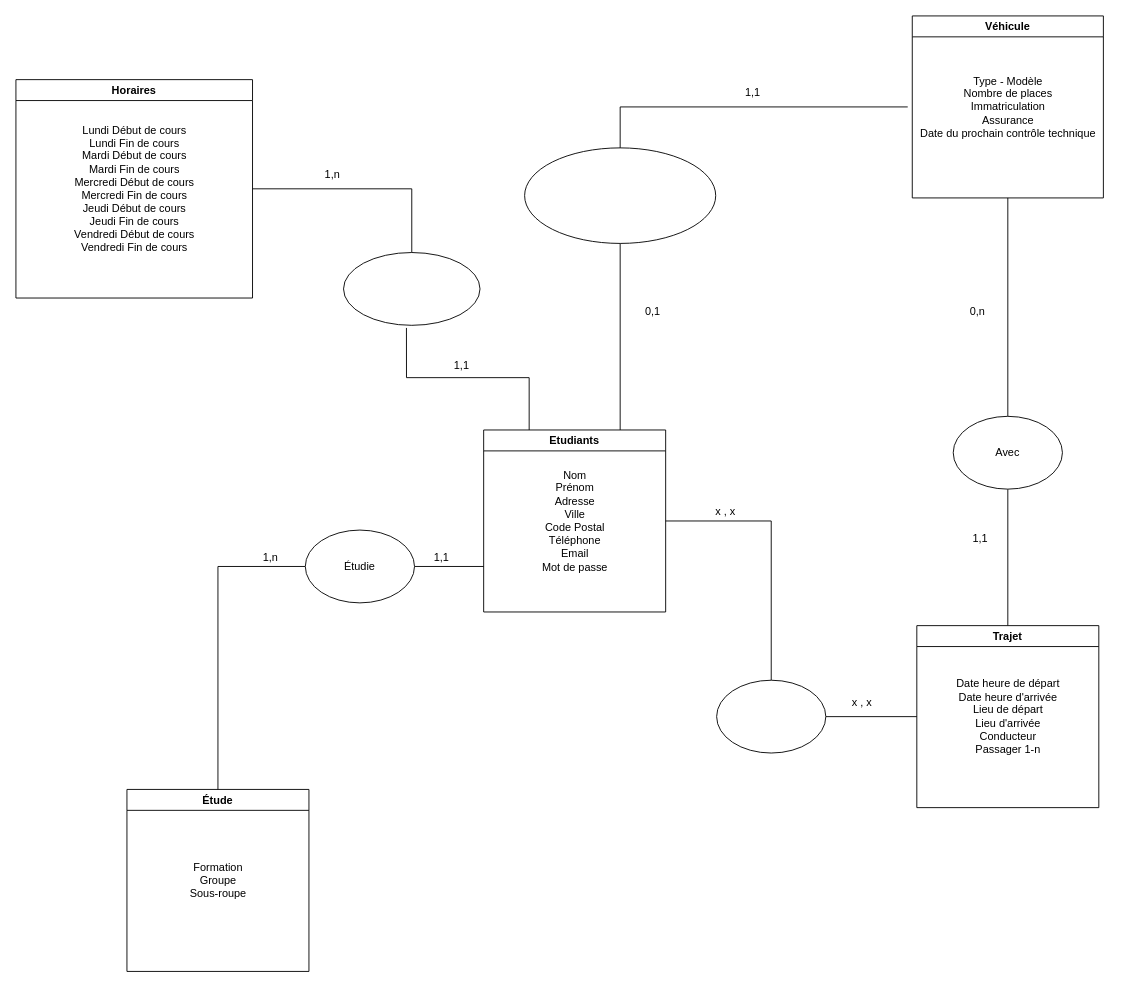
Some shapes in this 1124 by 987 pixel diagram are drawn without their labels. The centre of each missing label's shape, as x and y in pixels:
"Peut conduire" belongs at (620,195).
"Se déplace" belongs at (771,716).
"Travaille à" belongs at (411,288).
